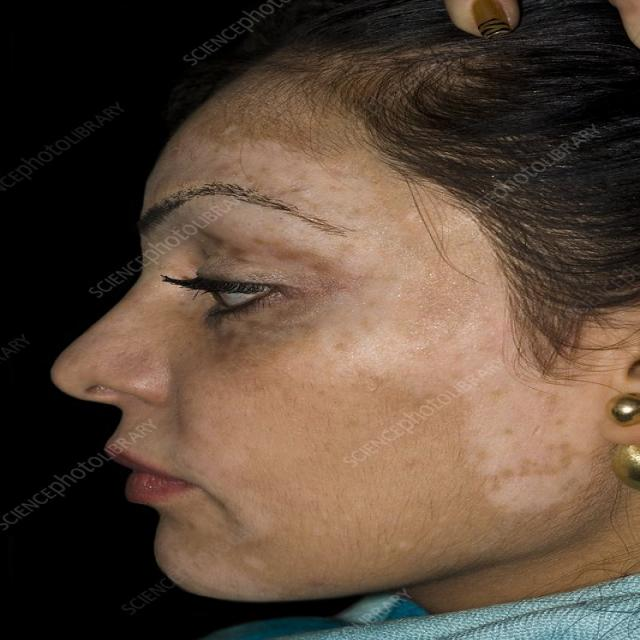vitiligo: (269, 194, 568, 531)
